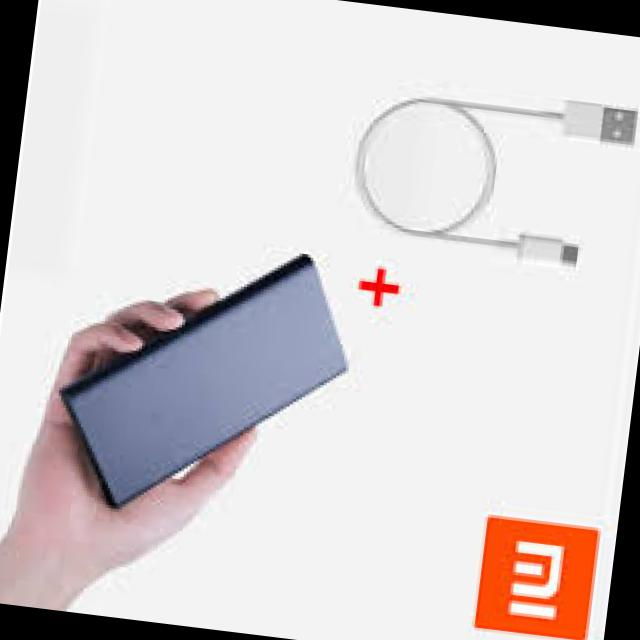power_bank: (43, 227, 364, 536)
